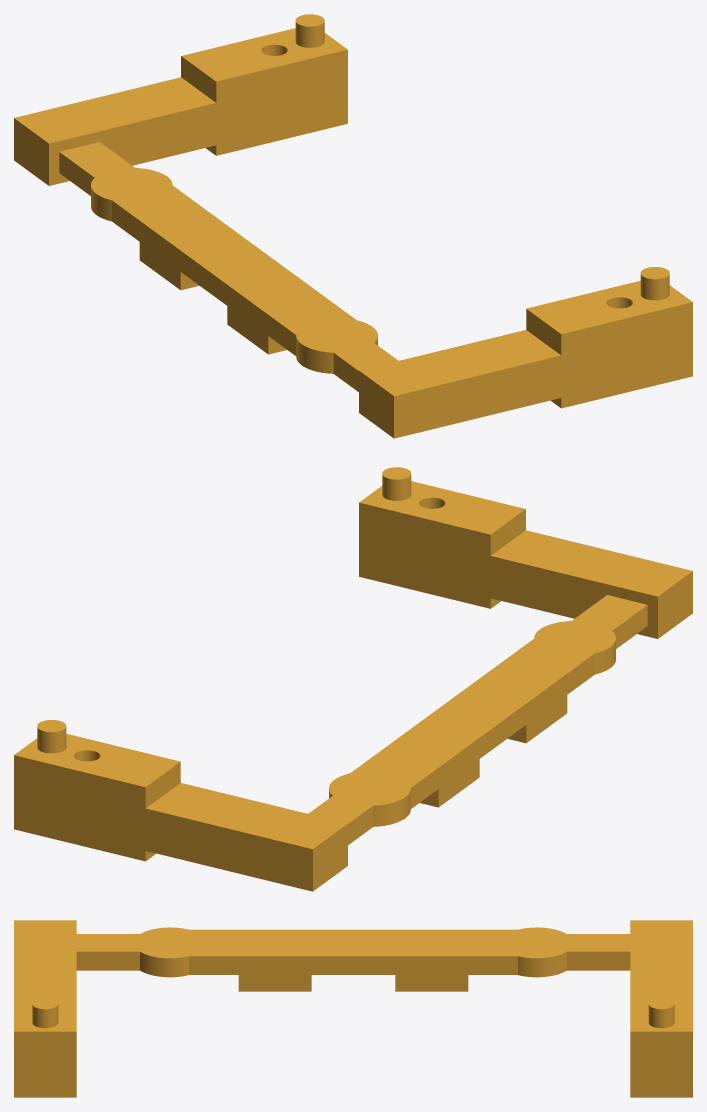
File: front_gate.glb
The picture shows the model from 3 angles, top to bottom: view 1: azimuth 30°, elevation 25°; view 2: azimuth 150°, elevation 25°; view 3: azimuth 270°, elevation 25°; orthographic projection. The views are drawn at different scales.
Parts seen in each view (by area): view 1: front_gate; view 2: front_gate; view 3: front_gate.
Boxes of the visible parts, <box> form: front_gate: <box>14,14,692,438</box>; front_gate: <box>14,467,692,891</box>; front_gate: <box>14,920,692,1097</box>.
Size of the model in its own units: 0.06 by 0.018 by 0.13.
